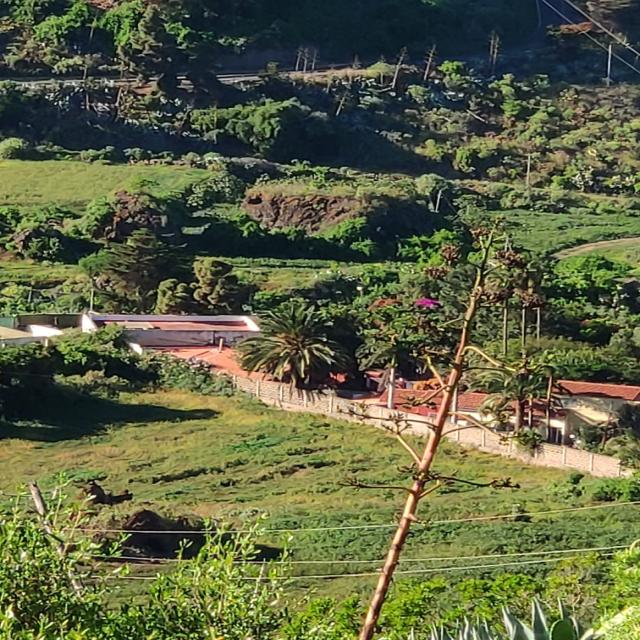Palm-Trees: (238, 308, 349, 392)
